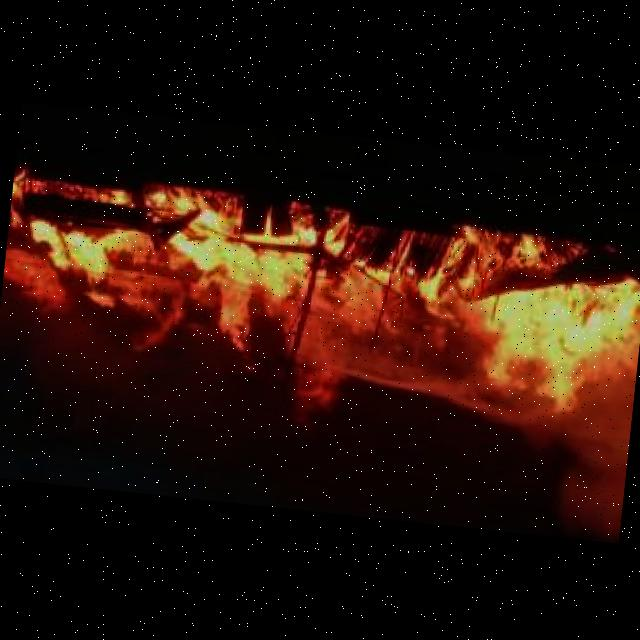fire: (0, 136, 640, 461)
